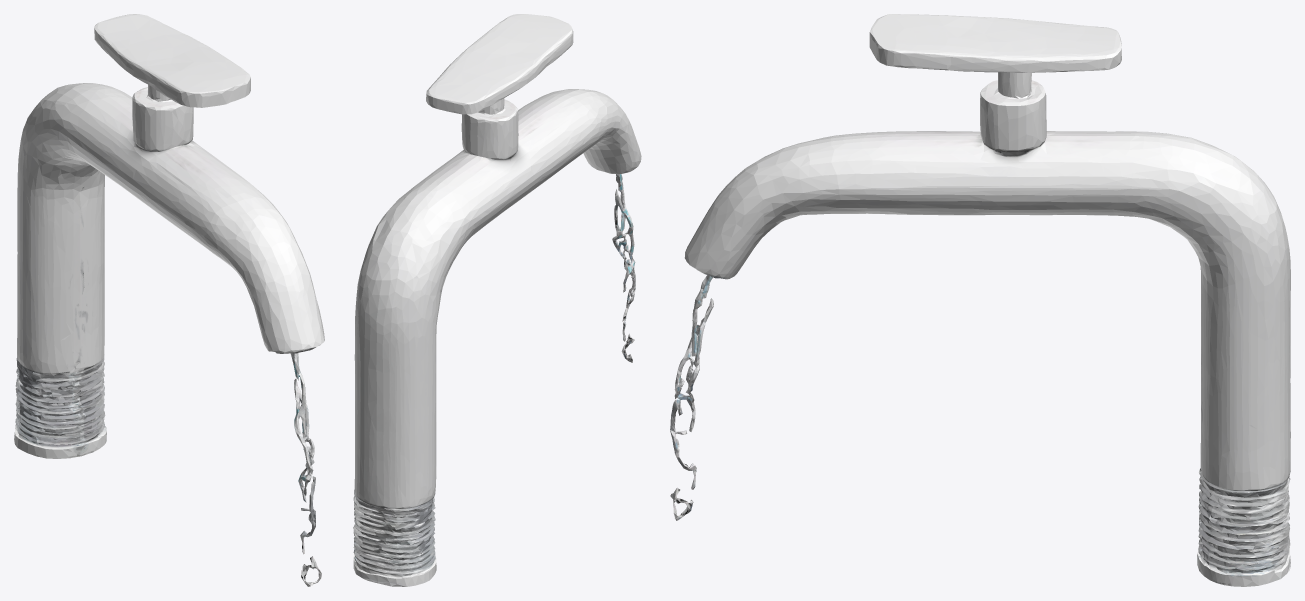
File: Create_a_3D_water_tap_0403162814_texture.obj
The picture shows the model from 3 angles, left to right: view 1: azimuth 30°, elevation 25°; view 2: azimuth 150°, elevation 25°; view 3: azimuth 270°, elevation 25°; orthographic projection. The views are drawn at different scales.
Visible parts, largest first — view 1: Create_a_3D_water_tap_0403162814_texture; view 2: Create_a_3D_water_tap_0403162814_texture; view 3: Create_a_3D_water_tap_0403162814_texture.
Part boxes in pixels (x1=…): Create_a_3D_water_tap_0403162814_texture: x1=14, y1=14, x2=324, y2=586; Create_a_3D_water_tap_0403162814_texture: x1=353, y1=14, x2=641, y2=586; Create_a_3D_water_tap_0403162814_texture: x1=670, y1=14, x2=1290, y2=586.
Size of the model in its own units: 0.3336 by 1.89 by 1.99.
Materials: 1 (1 with a texture image).
